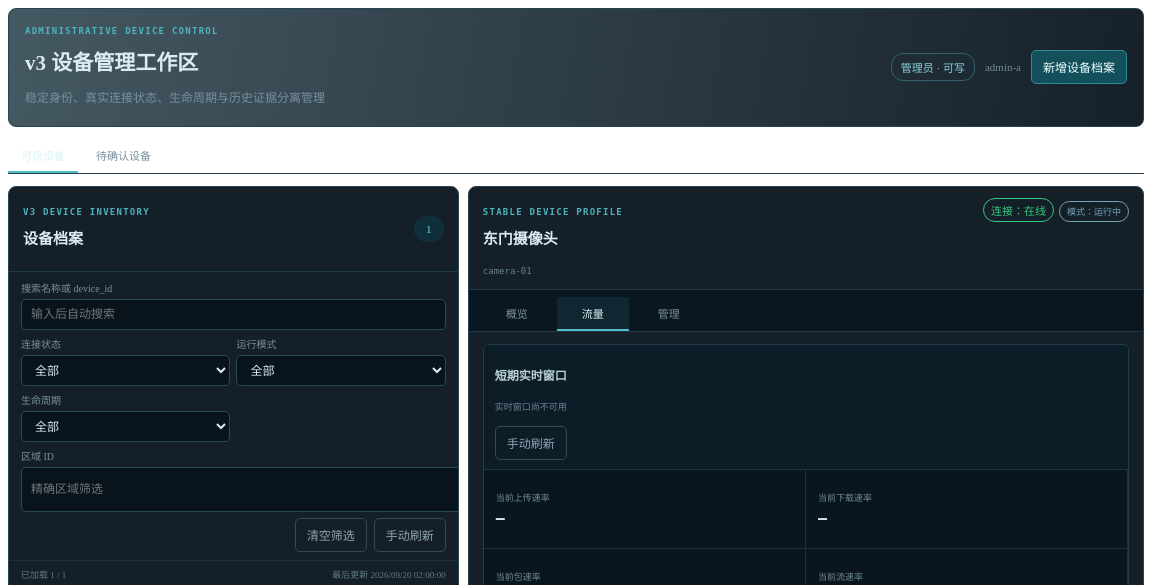
Test: DevicesPage permissions and server-backed interactions › shows the manual credential warning after retirement
Click the tab "管理" at point(669, 314), box 633,297 -> 705,331
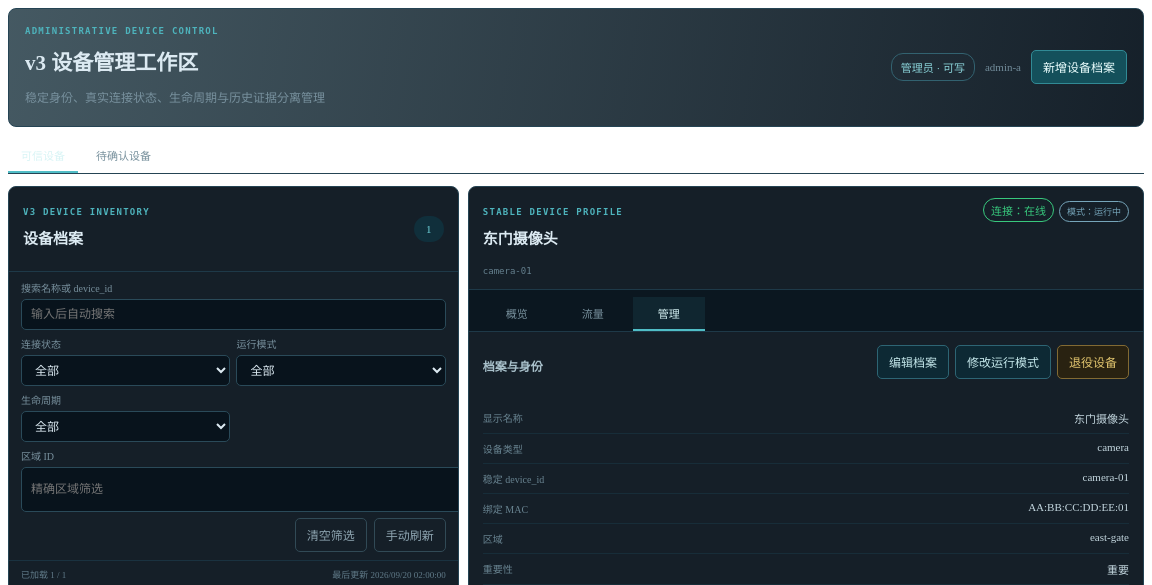
Click the button "退役设备" at point(1093, 362), box 1057,345 -> 1129,379
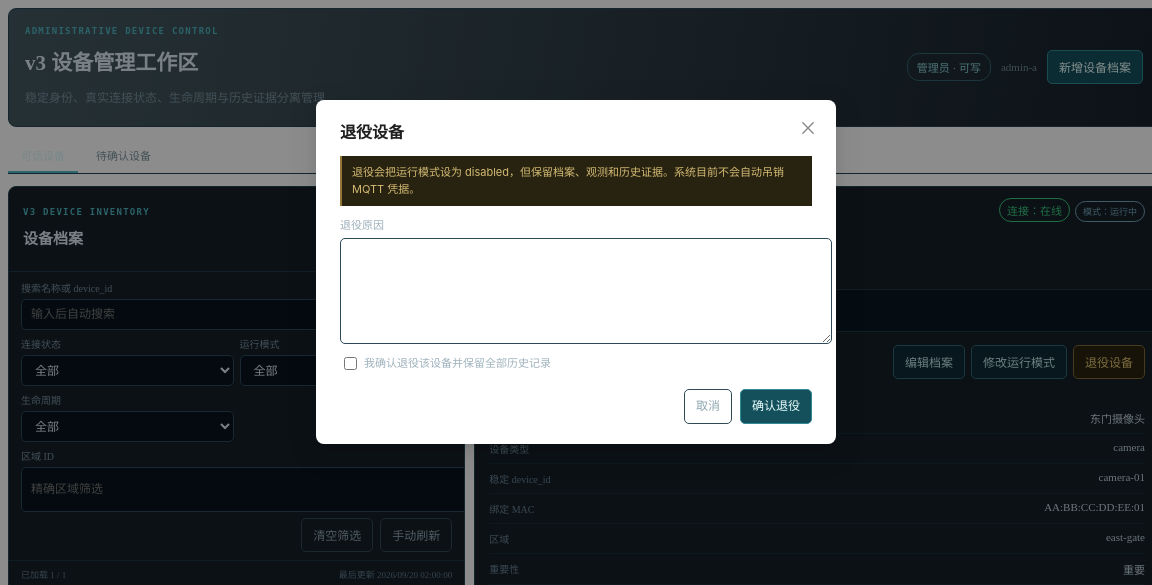
Type "设备下线更换" into the text box labelled "退役原因" at point(586, 291), box 340,238 -> 832,344
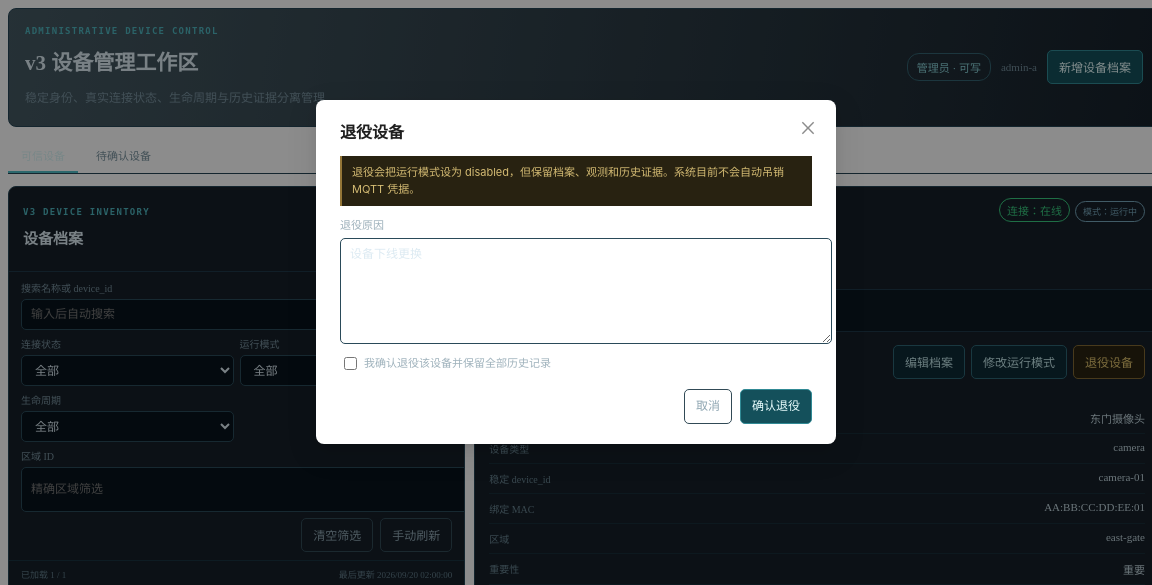
Click the checkbox at point(350, 364), box 344,357 -> 357,370
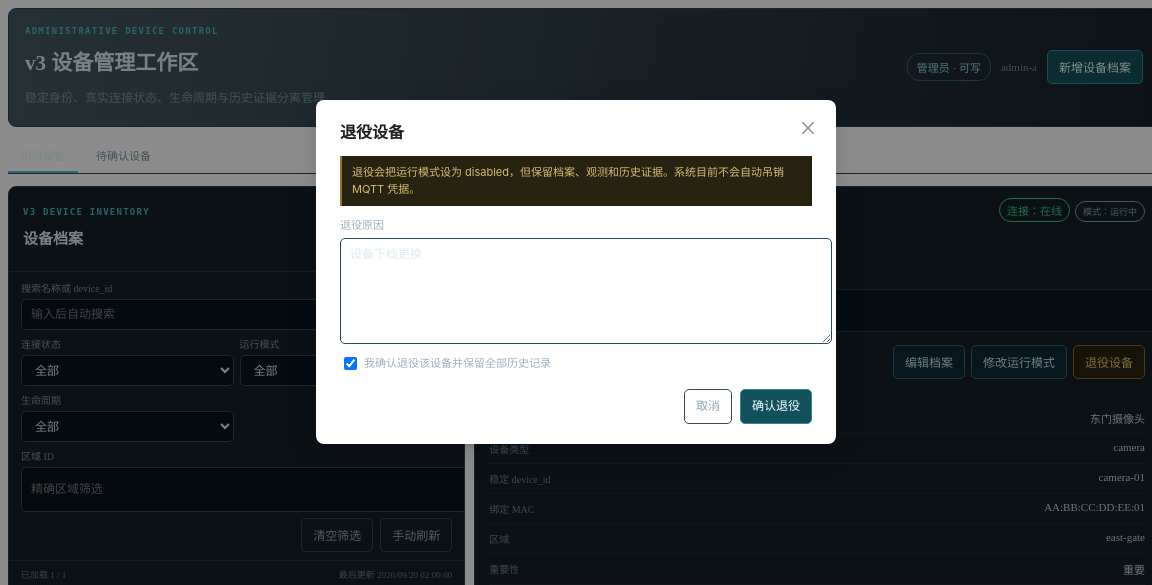
Click the button "确认退役" at point(776, 407), box 740,389 -> 812,424
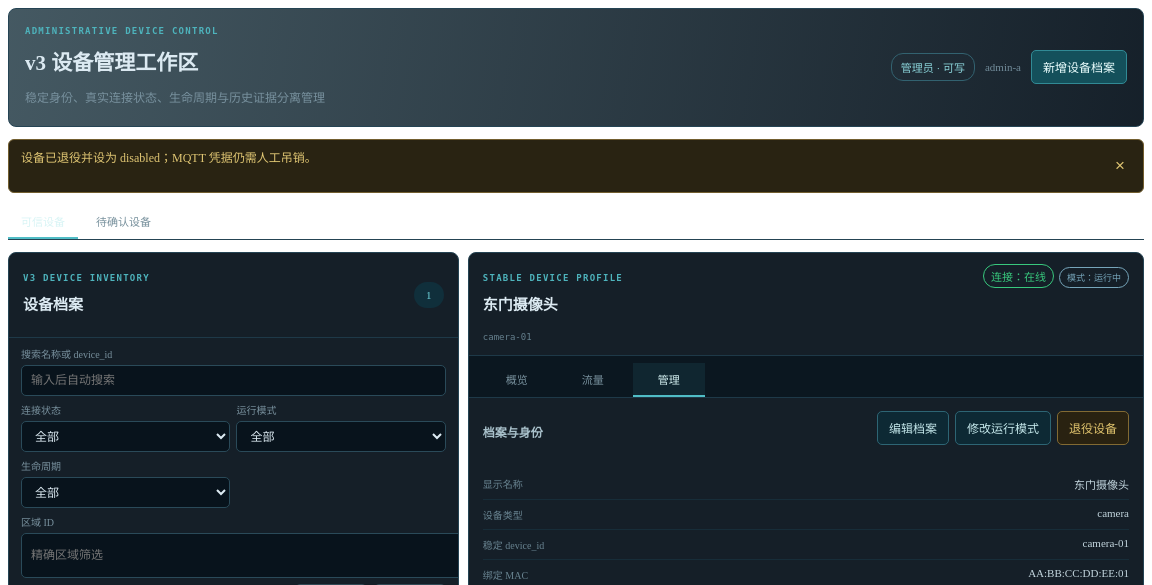
Now the message shows "MQTT 凭据仍需人工吊销", box 21,151 -> 317,165
